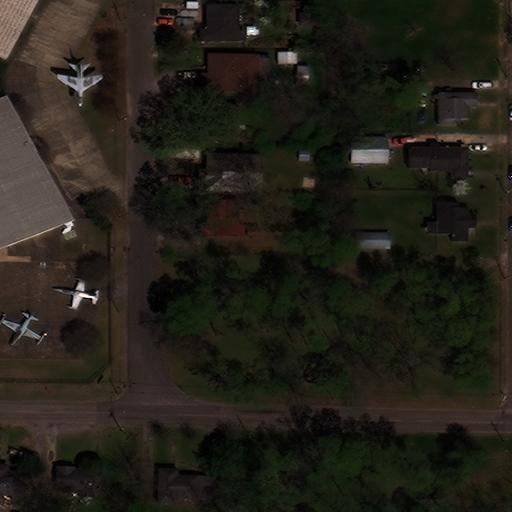Military Fighter: (56, 61, 104, 107), (0, 314, 40, 344)
Military Trainer: (51, 279, 99, 306)
